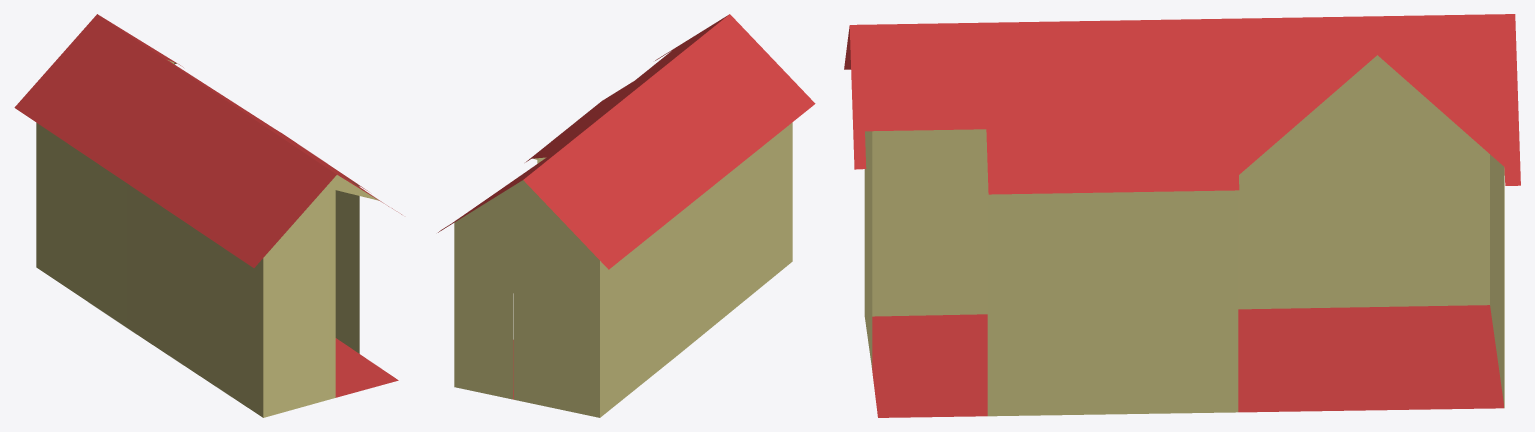
3 views of the same model, side by side, from view 1: azimuth 30°, elevation 25°; view 2: azimuth 150°, elevation 25°; view 3: azimuth 270°, elevation 25° (orthographic). The views are drawn at different scales.
Size of the model in its own units: 13.29 by 28.77 by 16.
